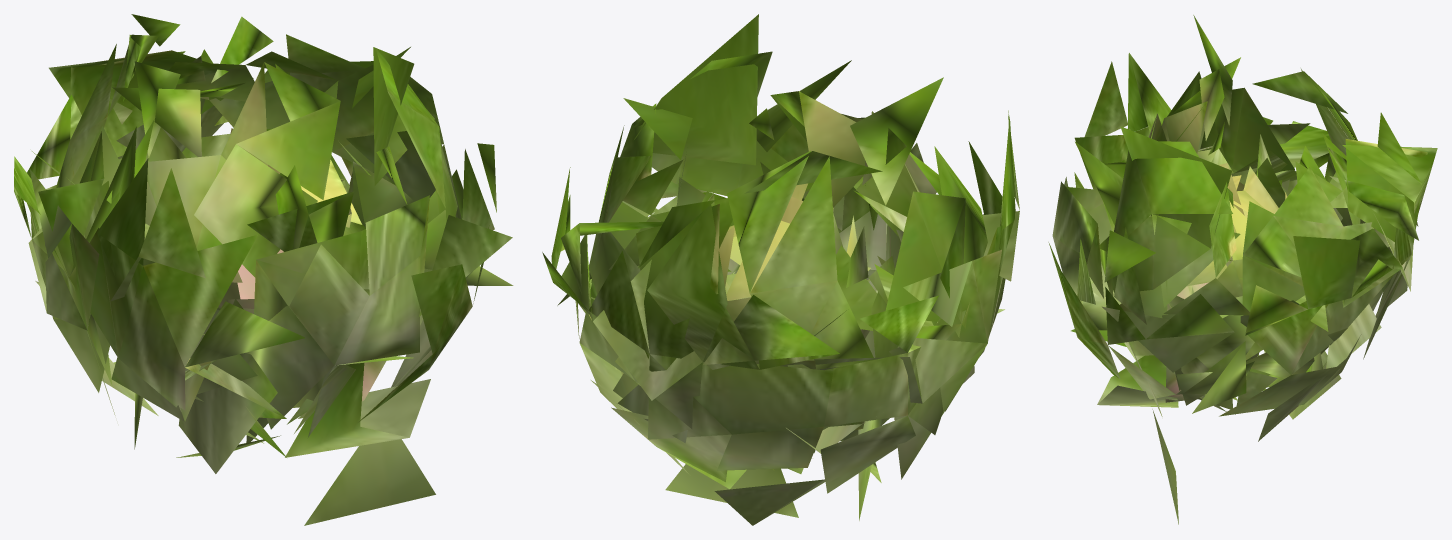
File: crop-lettuce.lod1.glb
3 renders of one model, left to right at view 1: azimuth 30°, elevation 25°; view 2: azimuth 150°, elevation 25°; view 3: azimuth 270°, elevation 25°, orthographic. The views are drawn at different scales.
Visible parts, largest first — view 1: plant.001; view 2: plant.001; view 3: plant.001.
Boxes of the visible parts, x1,y1,x2,y2 form: plant.001: (14, 14, 513, 525); plant.001: (542, 14, 1019, 525); plant.001: (1048, 15, 1437, 524).
Bounding box in the file's own units: 0.2733 × 0.2985 × 0.2648.
Materials: 1 (1 with a texture image).
